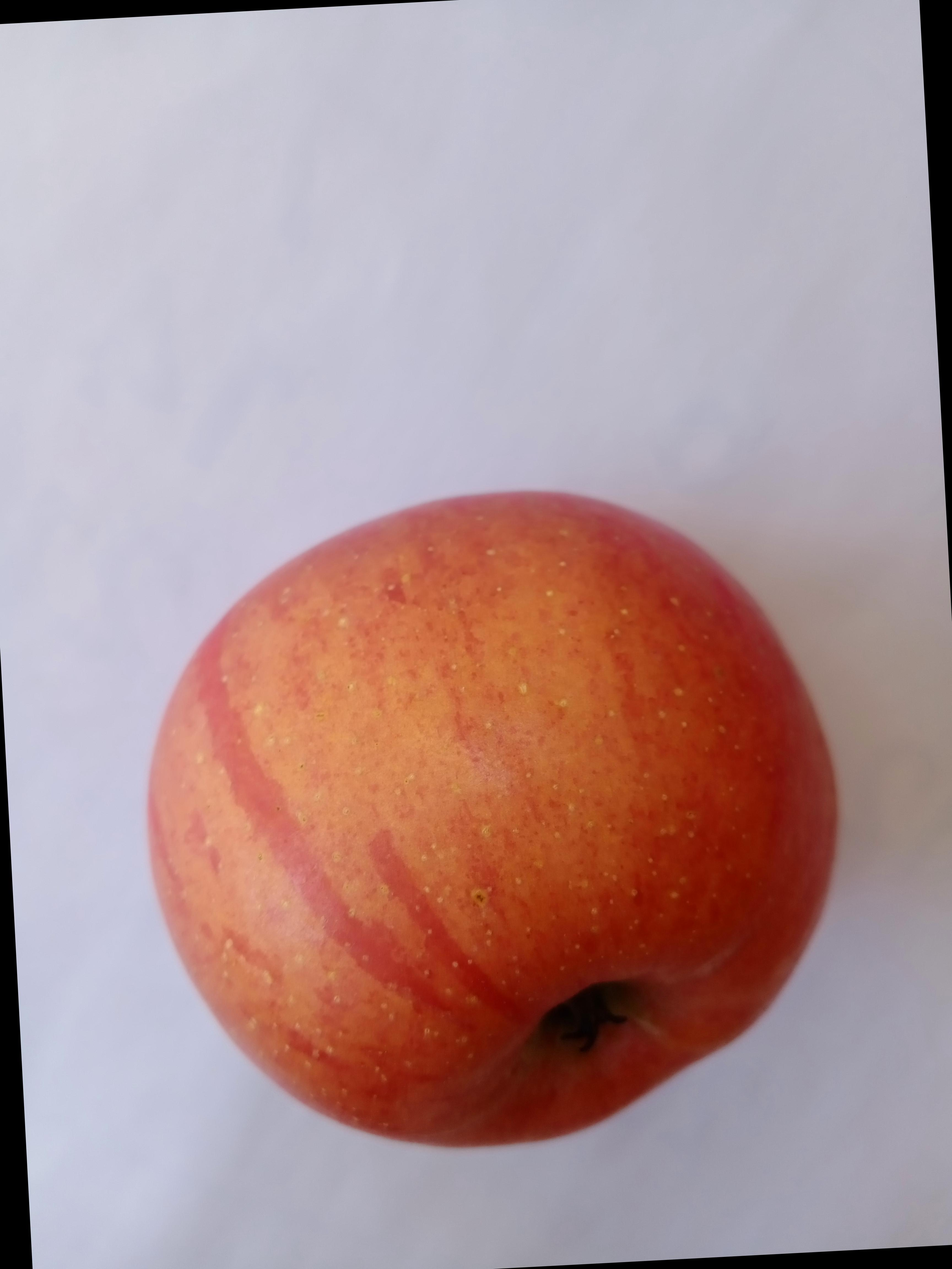Apple Ripe: (78, 484, 843, 1220)
